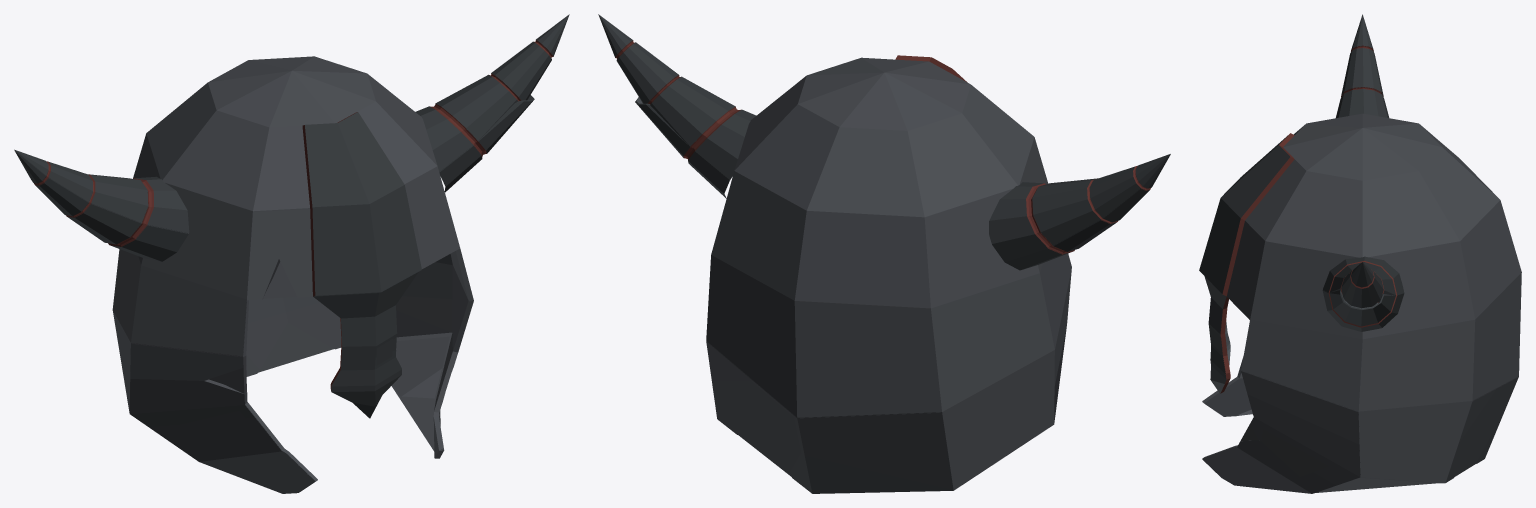
File: Helmet.gltf
3 renders of one model, left to right at view 1: azimuth 30°, elevation 25°; view 2: azimuth 150°, elevation 25°; view 3: azimuth 270°, elevation 25°, orthographic. The views are drawn at different scales.
Parts seen in each view (by area): view 1: helmet, broken helmet; view 2: helmet, broken helmet; view 3: helmet, broken helmet.
Part boxes in pixels (left/top/right/bottom): helmet: left=14, top=14, right=569, bottom=492; broken helmet: left=14, top=95, right=534, bottom=493; helmet: left=598, top=14, right=1170, bottom=489; broken helmet: left=635, top=97, right=1170, bottom=493; helmet: left=1199, top=14, right=1521, bottom=492; broken helmet: left=1199, top=46, right=1518, bottom=493.
Size of the model in its own units: 0.2126 by 0.1319 by 0.117.
2 materials, 2 textured.
